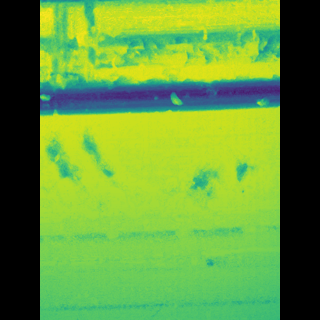Loch: (69, 119, 246, 229), (74, 0, 251, 93)
